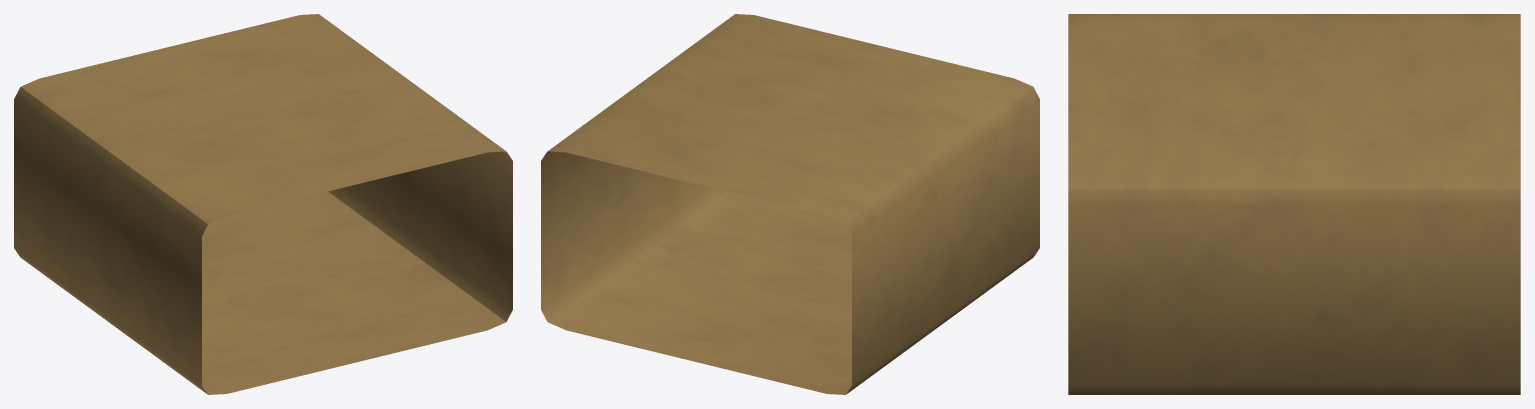
Rendered from Platform Wide Small Mid EXT.fbx.
3 renders of one model, left to right at view 1: azimuth 30°, elevation 25°; view 2: azimuth 150°, elevation 25°; view 3: azimuth 270°, elevation 25°, orthographic. The views are drawn at different scales.
Visible parts, largest first — view 1: Platform Wide Small Mid EXT; view 2: Platform Wide Small Mid EXT; view 3: Platform Wide Small Mid EXT.
Part boxes in pixels (x1,y1,x2,y2): Platform Wide Small Mid EXT: (14, 14, 512, 394); Platform Wide Small Mid EXT: (541, 14, 1039, 394); Platform Wide Small Mid EXT: (1068, 14, 1520, 394).
Size of the model in its own units: 45.72 by 47.83 by 25.
